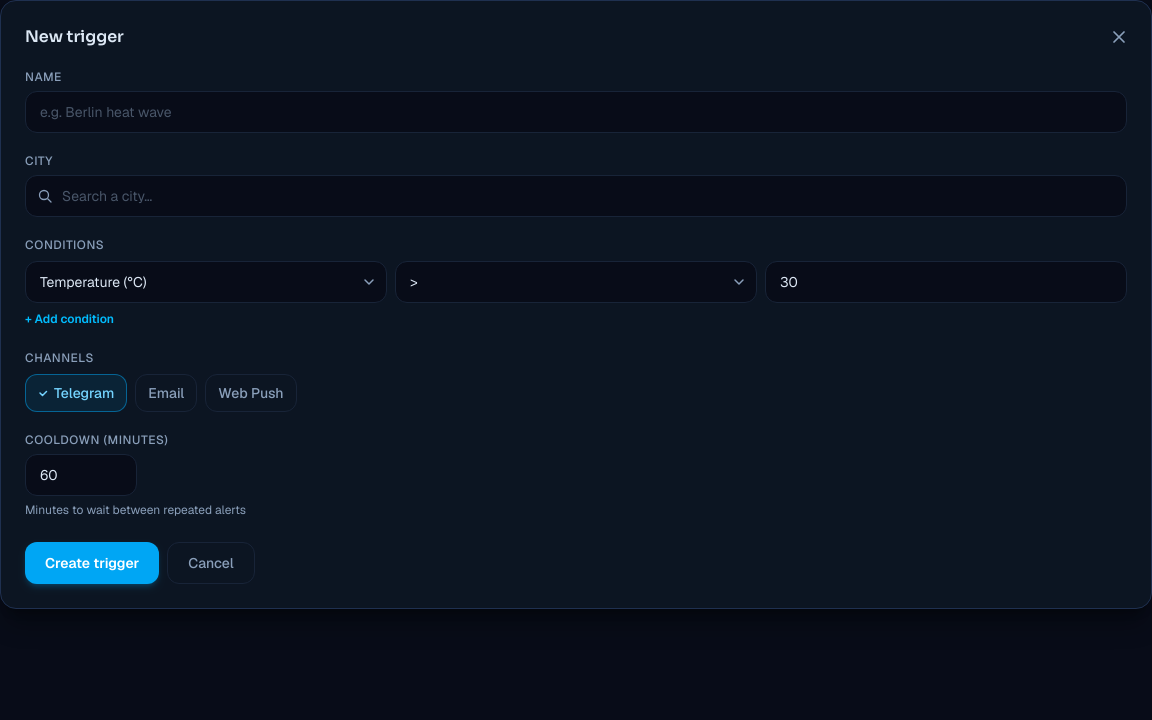
Test: TriggerForm › blocks submit and shows errors when name and city are missing
Click the button "Create trigger" at (92, 563), box [25,542,159,584]
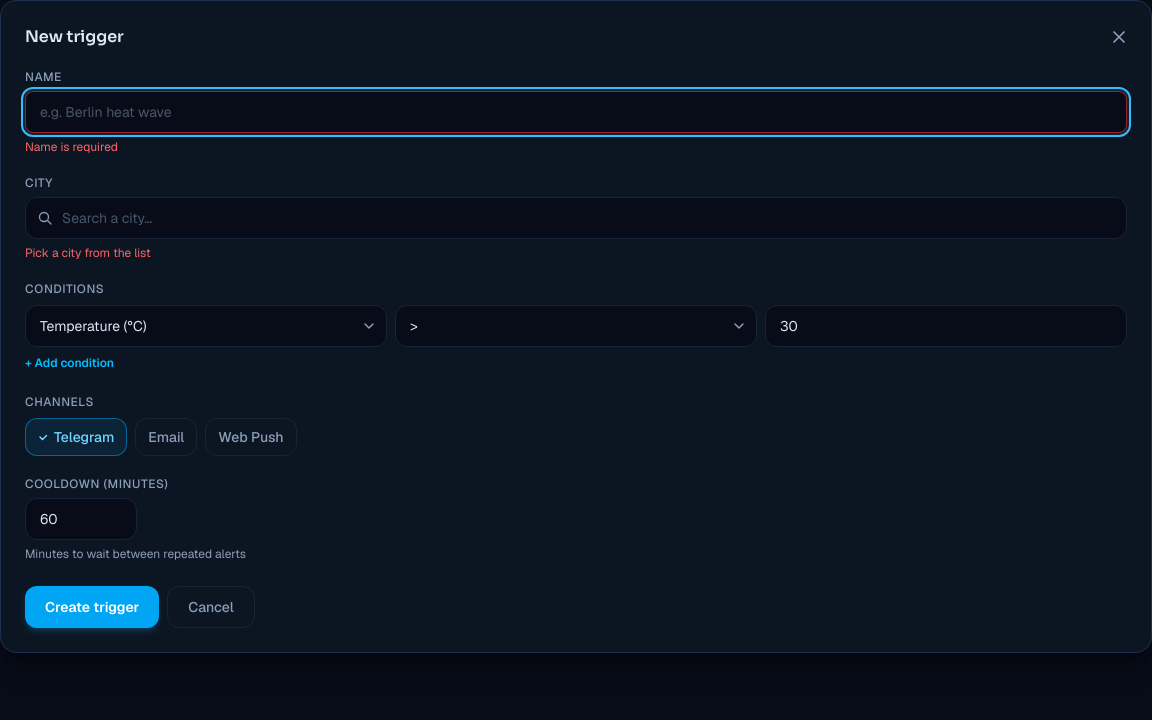
Expected: the text "Name is required" is shown, [25,139,118,155]
Expected: the text "Pick a city from the list" is shown, [25,245,151,261]
